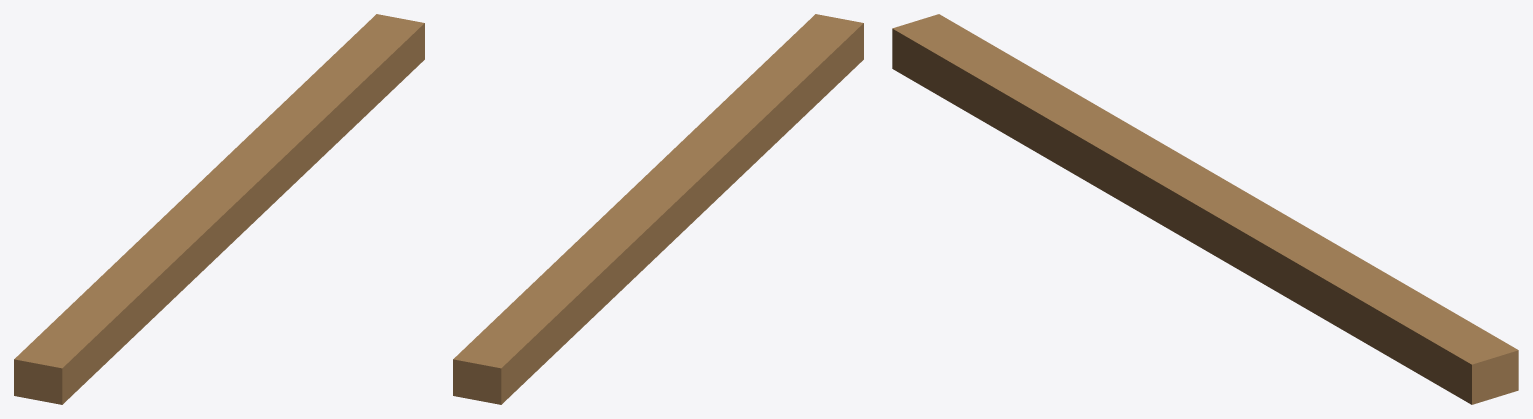
Rendered from cartel_trafico_top_lev5.glb.
3 renders of one model, left to right at view 1: azimuth 30°, elevation 25°; view 2: azimuth 210°, elevation 25°; view 3: azimuth 270°, elevation 25°, orthographic. The views are drawn at different scales.
Parts seen in each view (by area): view 1: cartel_trafico_top_lev5; view 2: cartel_trafico_top_lev5; view 3: cartel_trafico_top_lev5.
Part boxes in pixels (x1,y1,x2,y2): cartel_trafico_top_lev5: (14, 14, 424, 404); cartel_trafico_top_lev5: (453, 14, 863, 404); cartel_trafico_top_lev5: (892, 14, 1518, 404).
Size of the model in its own units: 4.48 by 0.24 by 3.38.
